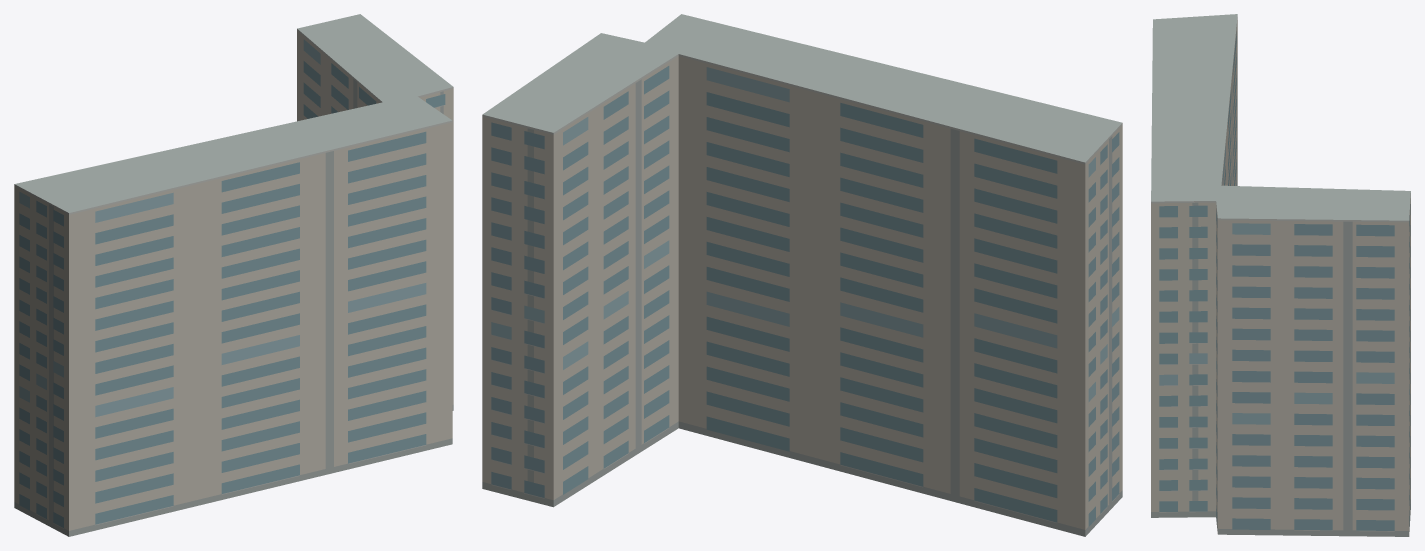
The model's file is residential-61813af2-35f8-40a9-8c96-e23c347fa2da.glb.
3 views of the same model, side by side, from view 1: azimuth 30°, elevation 25°; view 2: azimuth 150°, elevation 25°; view 3: azimuth 270°, elevation 25° (orthographic). The views are drawn at different scales.
Parts seen in each view (by area): view 1: residential-61813af2-35f8-40a9-8c96-e23c347fa2da.tmp; view 2: residential-61813af2-35f8-40a9-8c96-e23c347fa2da.tmp; view 3: residential-61813af2-35f8-40a9-8c96-e23c347fa2da.tmp.
Part boxes in pixels (box(x1,y1,x2,y2)): residential-61813af2-35f8-40a9-8c96-e23c347fa2da.tmp: box(14, 14, 453, 536); residential-61813af2-35f8-40a9-8c96-e23c347fa2da.tmp: box(482, 14, 1122, 536); residential-61813af2-35f8-40a9-8c96-e23c347fa2da.tmp: box(1151, 14, 1410, 536).
Size of the model in its own units: 64.14 by 45.75 by 34.09.
